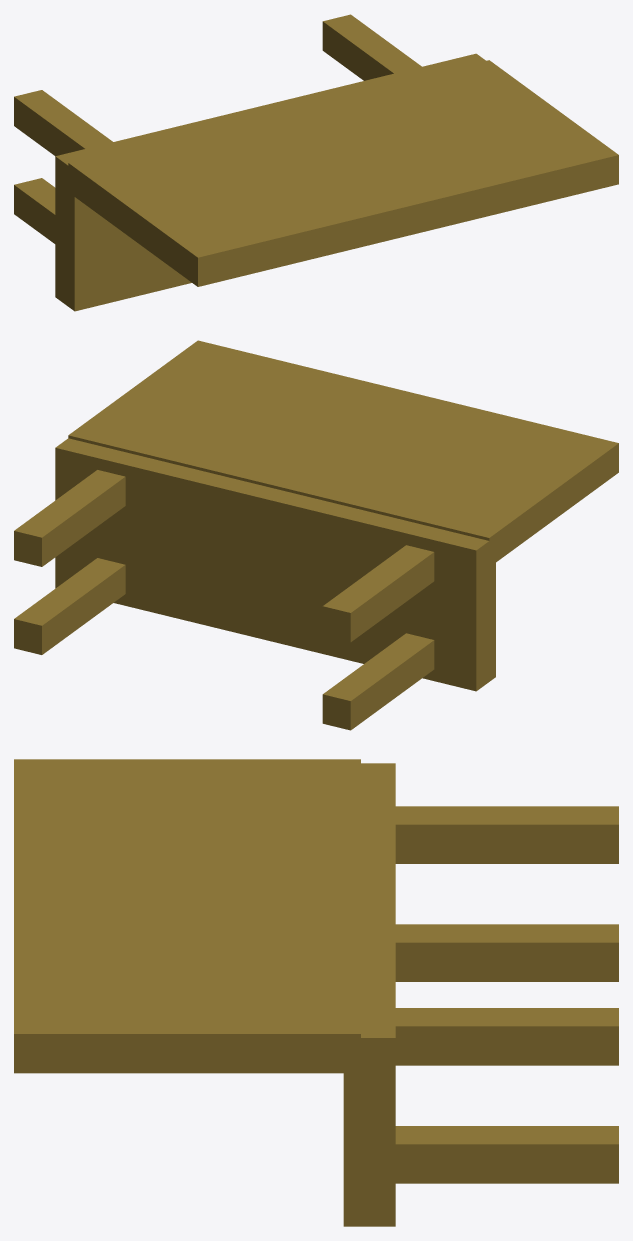
The model's file is SM_LorienGoldenBench.obj.
The picture shows the model from 3 angles, top to bottom: view 1: azimuth 30°, elevation 25°; view 2: azimuth 150°, elevation 25°; view 3: azimuth 270°, elevation 25°; orthographic projection. The views are drawn at different scales.
Visible parts, largest first — view 1: SM_LorienGoldenBench; view 2: SM_LorienGoldenBench; view 3: SM_LorienGoldenBench.
Boxes of the visible parts, box(x1,y1,x2,y2) form: SM_LorienGoldenBench: box(14, 14, 618, 311); SM_LorienGoldenBench: box(14, 340, 618, 730); SM_LorienGoldenBench: box(14, 759, 618, 1226).
Bounding box in the file's own units: 150 × 49 × 140.
